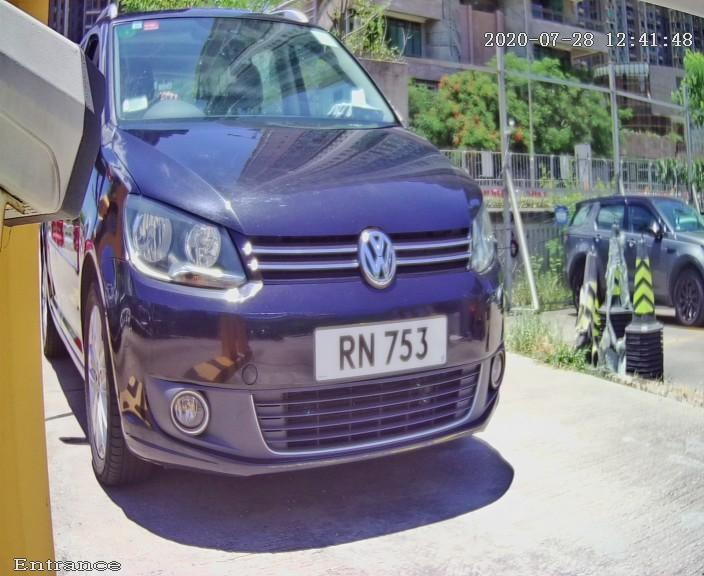privatecar: (23, 13, 560, 548)
